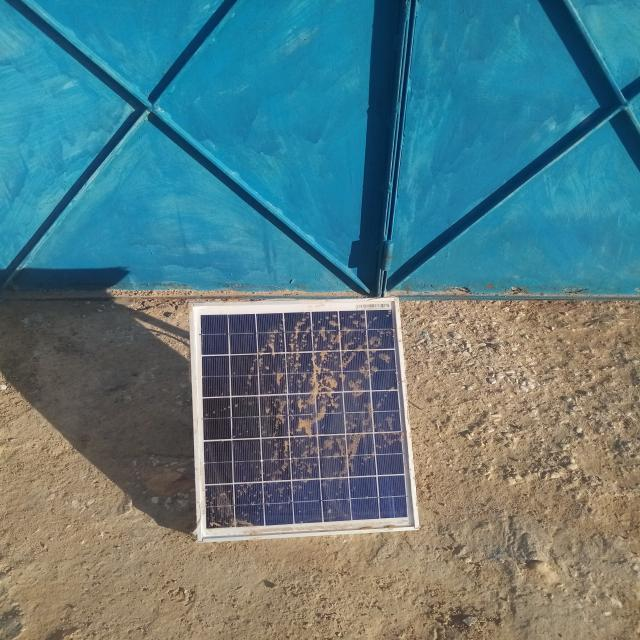faulty: (188, 298, 421, 542)
